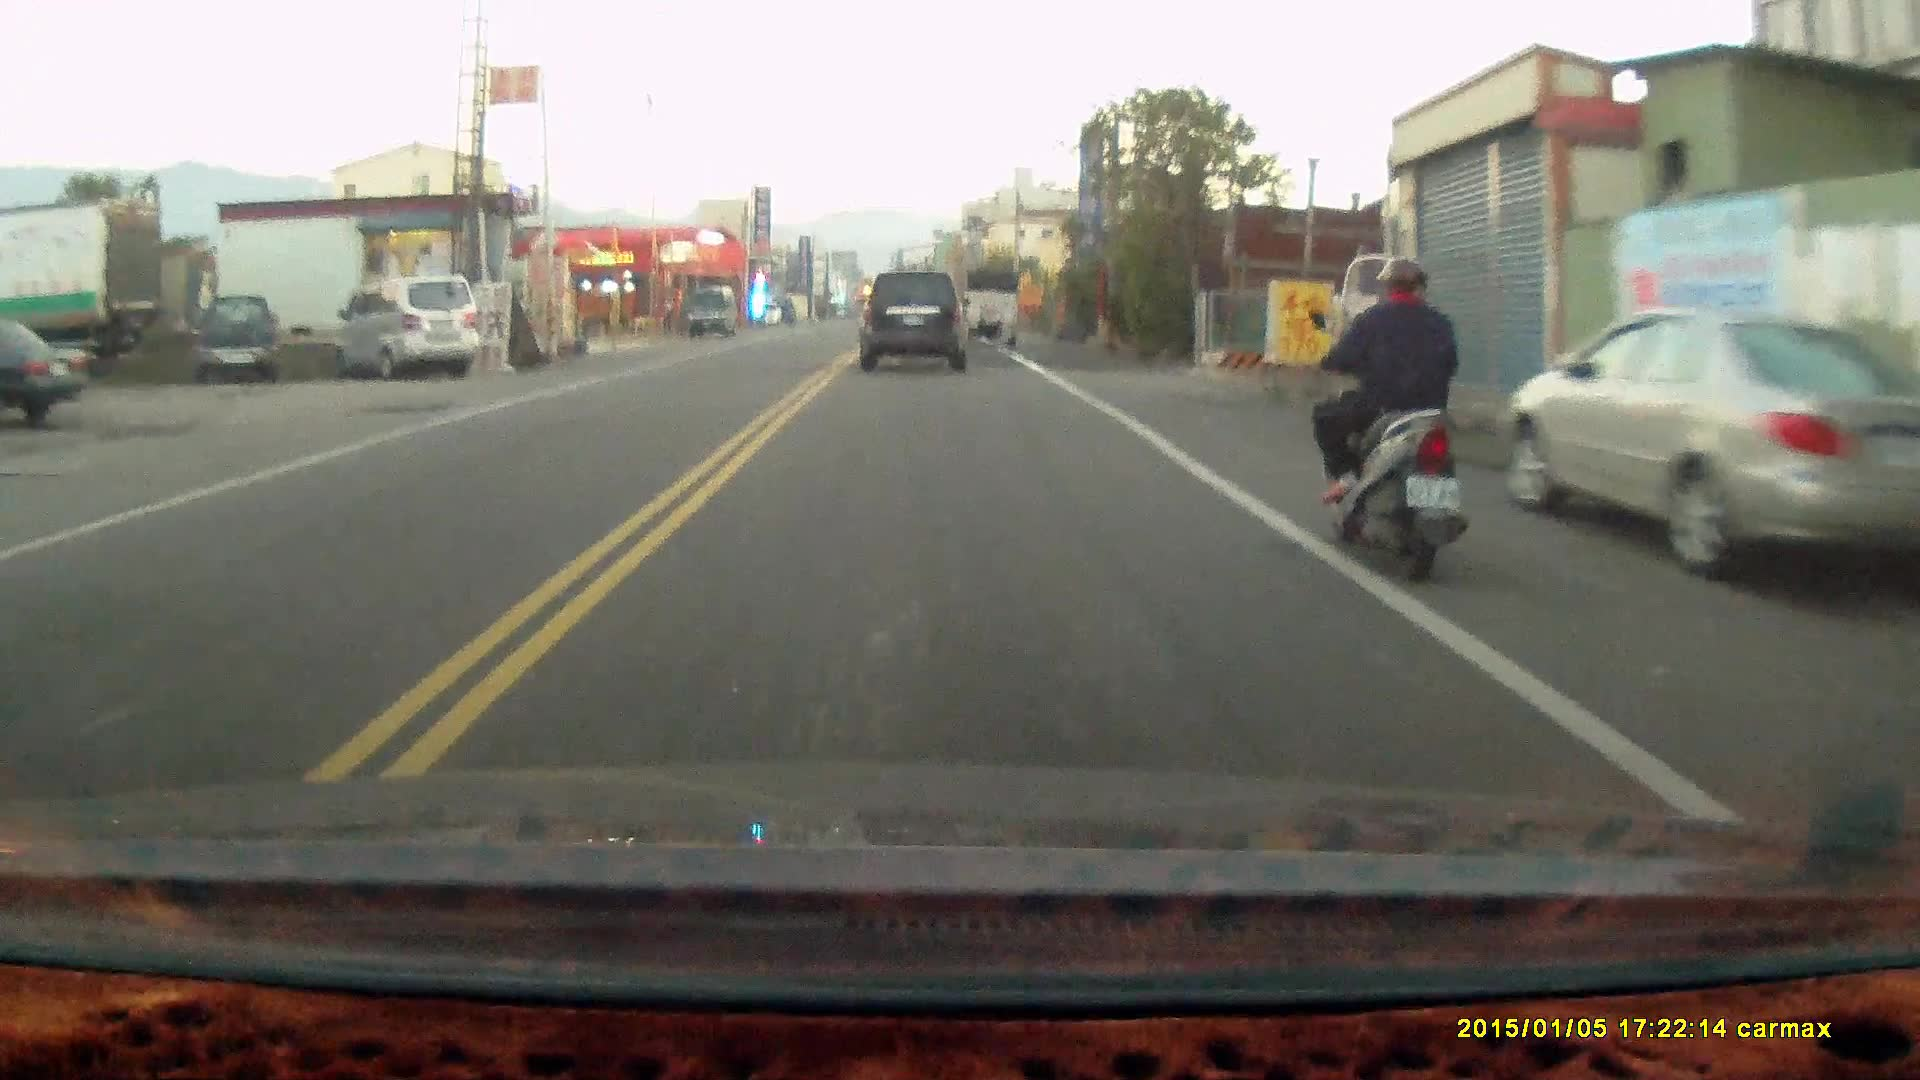rider: (1308, 255, 1468, 588)
vehicle: (1515, 308, 1920, 577), (337, 277, 482, 382), (857, 272, 975, 383), (1, 314, 91, 430), (194, 295, 281, 389), (961, 269, 1022, 348)
